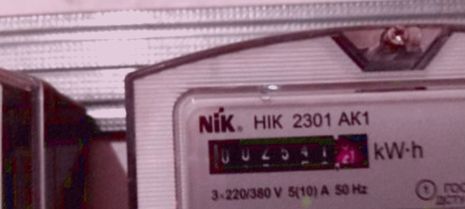0: (216, 142, 230, 164), (237, 140, 250, 161)
1: (316, 138, 327, 158)
2: (257, 140, 269, 160)
4: (297, 138, 309, 159)
5: (276, 138, 289, 161)
6: (338, 149, 350, 165)
screen: (195, 122, 379, 182)
